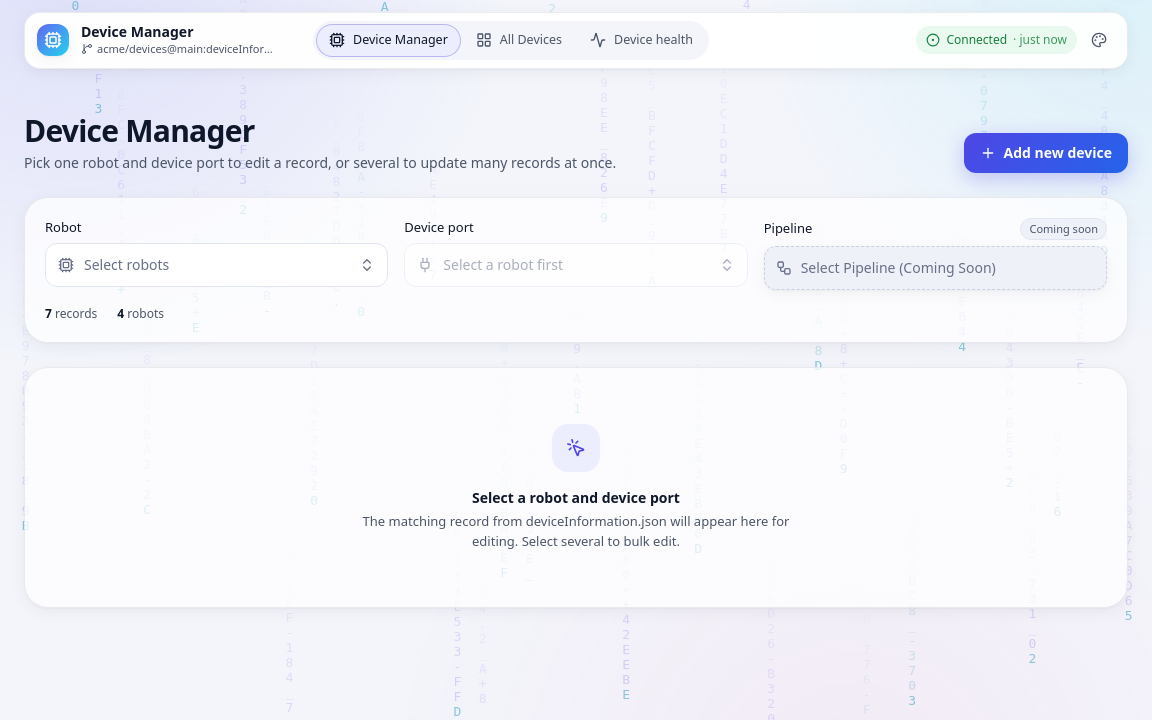
Test: Device and Port selection › disables Port until a device is selected, then shows only that device's ports
Later steps or results of the test are not shown.
expect the dropdown named "Device port" is disabled: met, box [404,243,748,287]
Click the dropdown labelled "robot": (127, 265) [45,243,388,287]
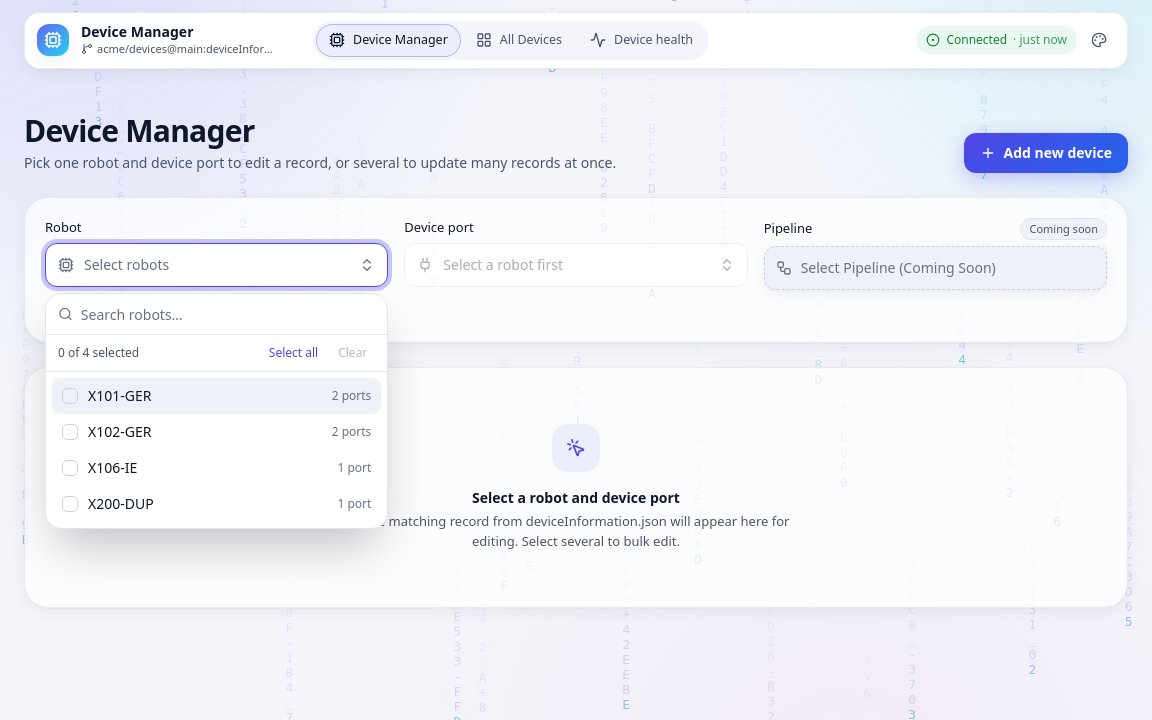
Click the option "X102-GER 2 ports": (120, 432) [62,422,371,441]
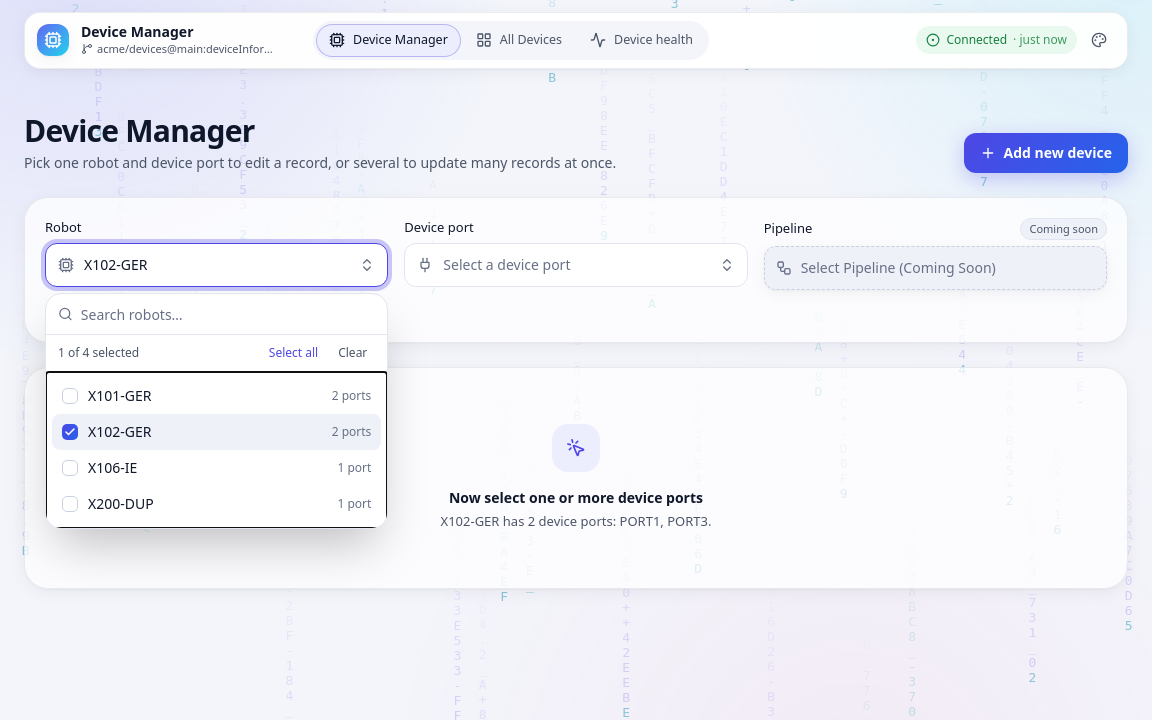
Press Escape
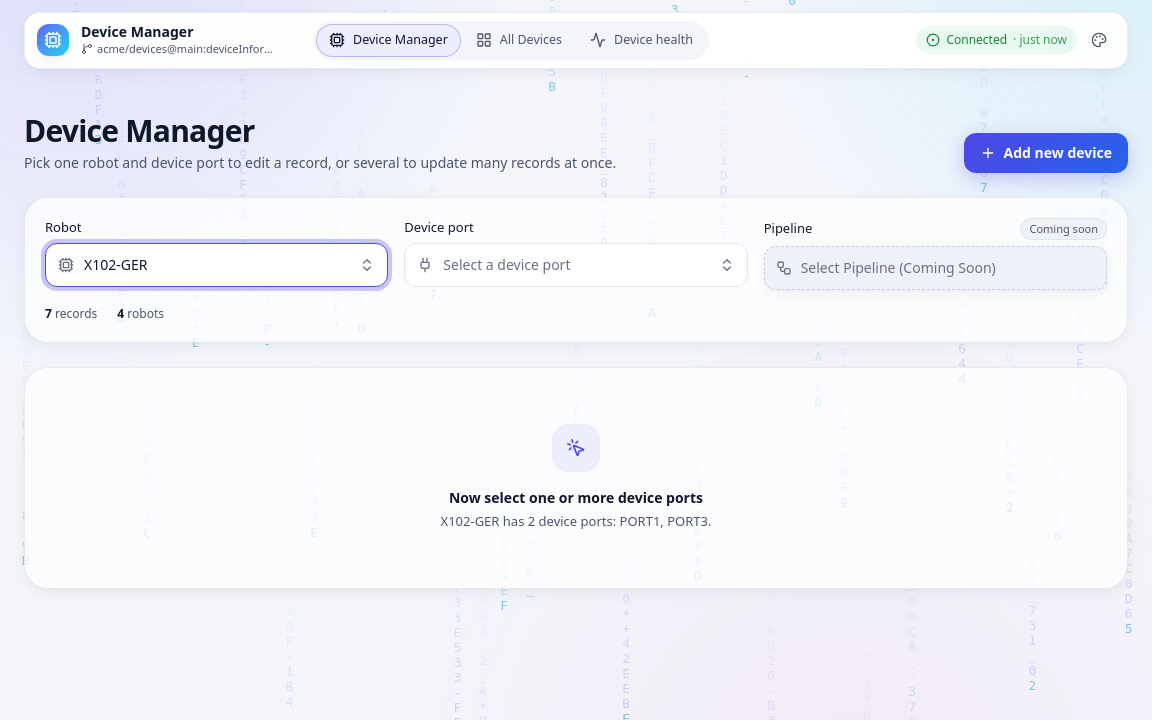
expect the dropdown labelled "device port" is enabled: met, box [404,243,748,287]
